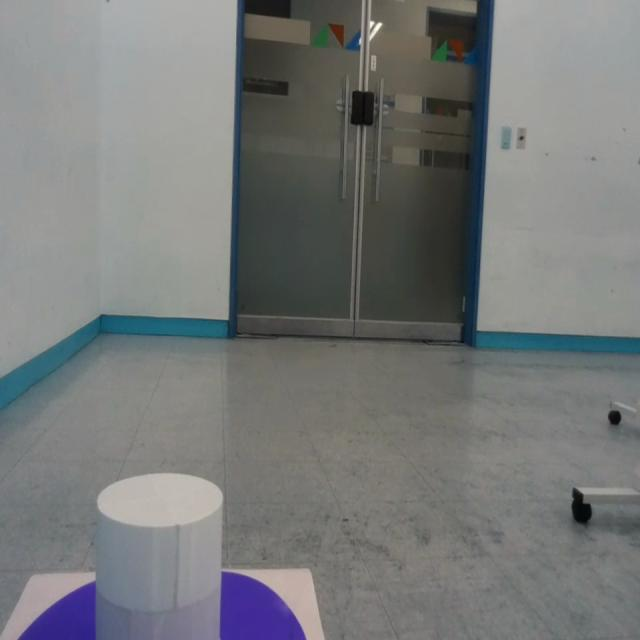cylinder: (94, 473, 224, 640)
